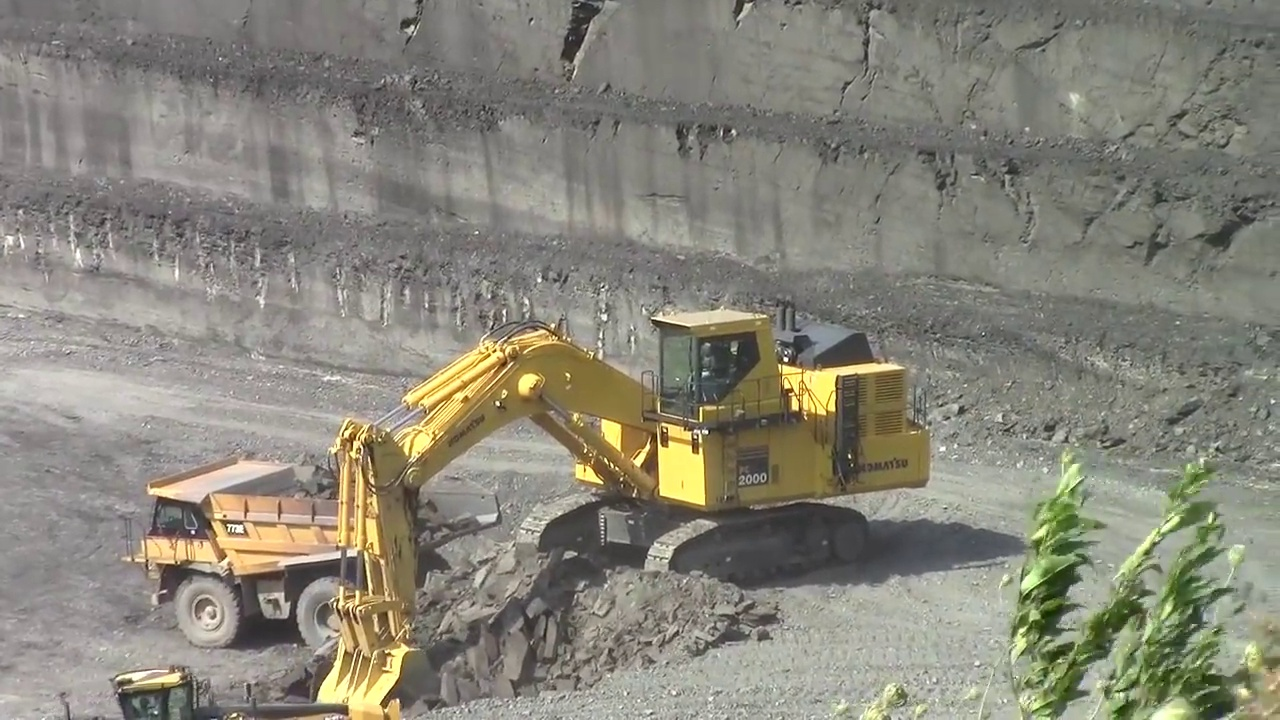dumper: (121, 451, 509, 652)
excavator: (312, 299, 936, 720)
